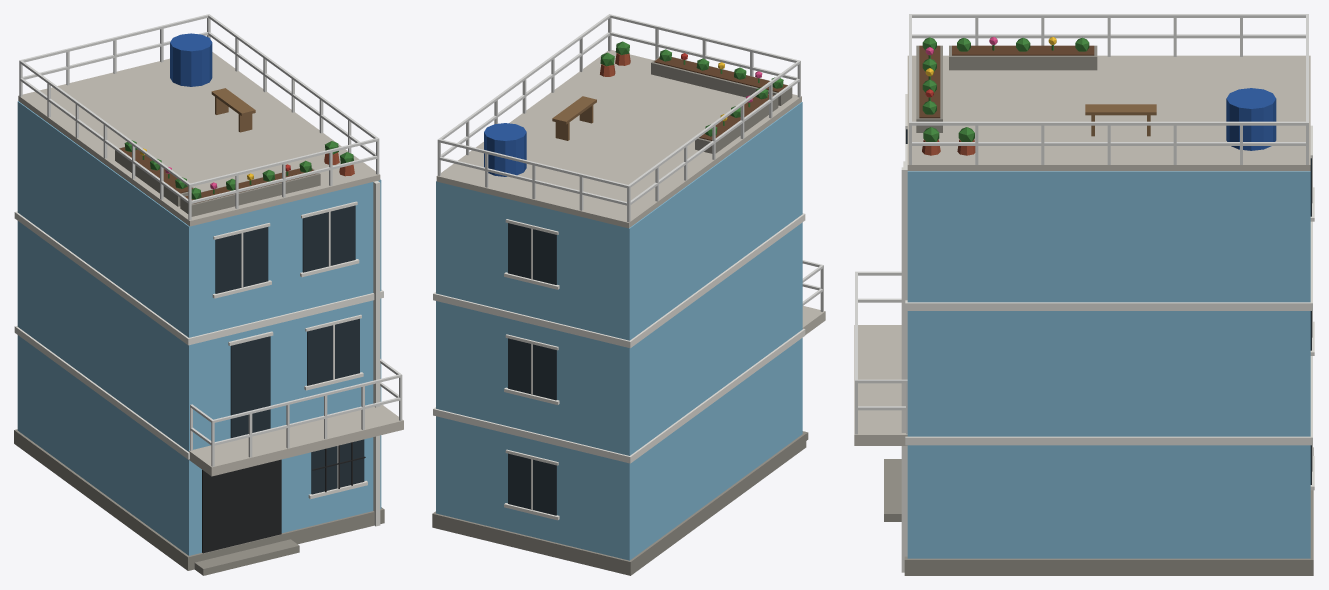
Rendered from BAY_F_ThreeStorey_M.glb.
The picture shows the model from 3 angles, left to right: view 1: azimuth 30°, elevation 25°; view 2: azimuth 150°, elevation 25°; view 3: azimuth 270°, elevation 25°; orthographic projection. The views are drawn at different scales.
Visible parts, largest first — view 1: BAY_F_ThreeStorey_M; view 2: BAY_F_ThreeStorey_M; view 3: BAY_F_ThreeStorey_M.
Part boxes in pixels (x1,y1,x2,y2): BAY_F_ThreeStorey_M: (14,14,403,575); BAY_F_ThreeStorey_M: (432,14,825,575); BAY_F_ThreeStorey_M: (854,14,1314,575).
Bounding box in the file's own units: 4.5 × 8.4 × 7.77.
Materials: 1 (1 with a texture image).
